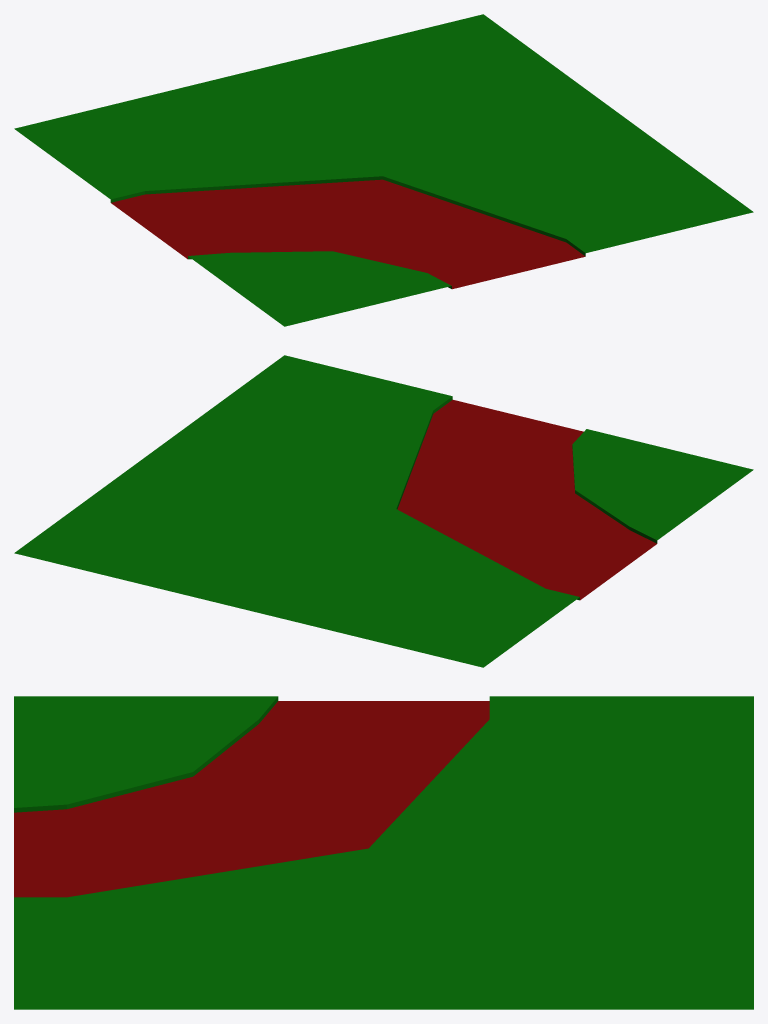
File: TurnRoad.fbx
3 views of the same model, one above another, from view 1: azimuth 30°, elevation 25°; view 2: azimuth 150°, elevation 25°; view 3: azimuth 270°, elevation 25° (orthographic). The views are drawn at different scales.
Visible parts, largest first — view 1: TurnRoad; view 2: TurnRoad; view 3: TurnRoad.
Boxes of the visible parts, left/top/right/bottom form: TurnRoad: left=14, top=14, right=753, bottom=326; TurnRoad: left=14, top=355, right=753, bottom=667; TurnRoad: left=14, top=696, right=753, bottom=1009.
Bounding box in the file's own units: 7.01 × 0.0487 × 7.
